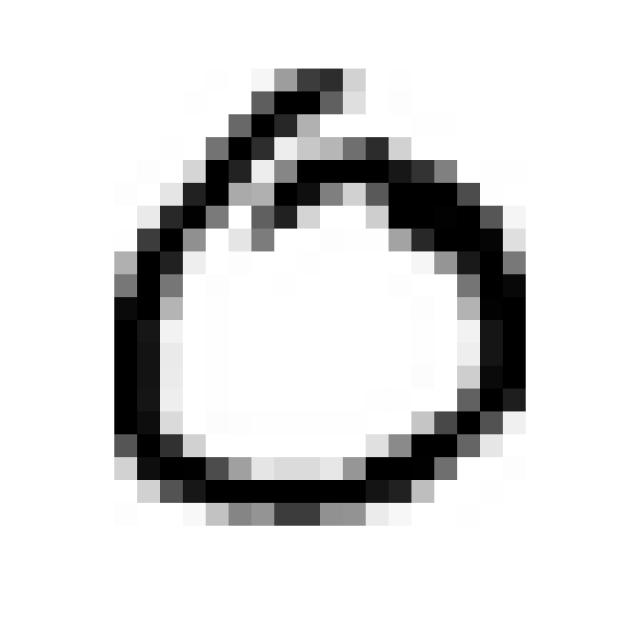5 -five-: (89, 39, 545, 541)
